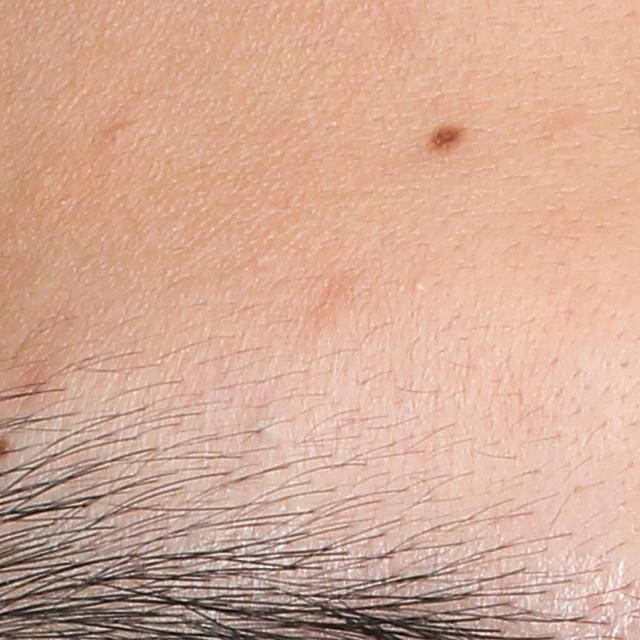comedo: (104, 121, 133, 150), (409, 276, 428, 294)
nevus: (423, 121, 469, 151)
